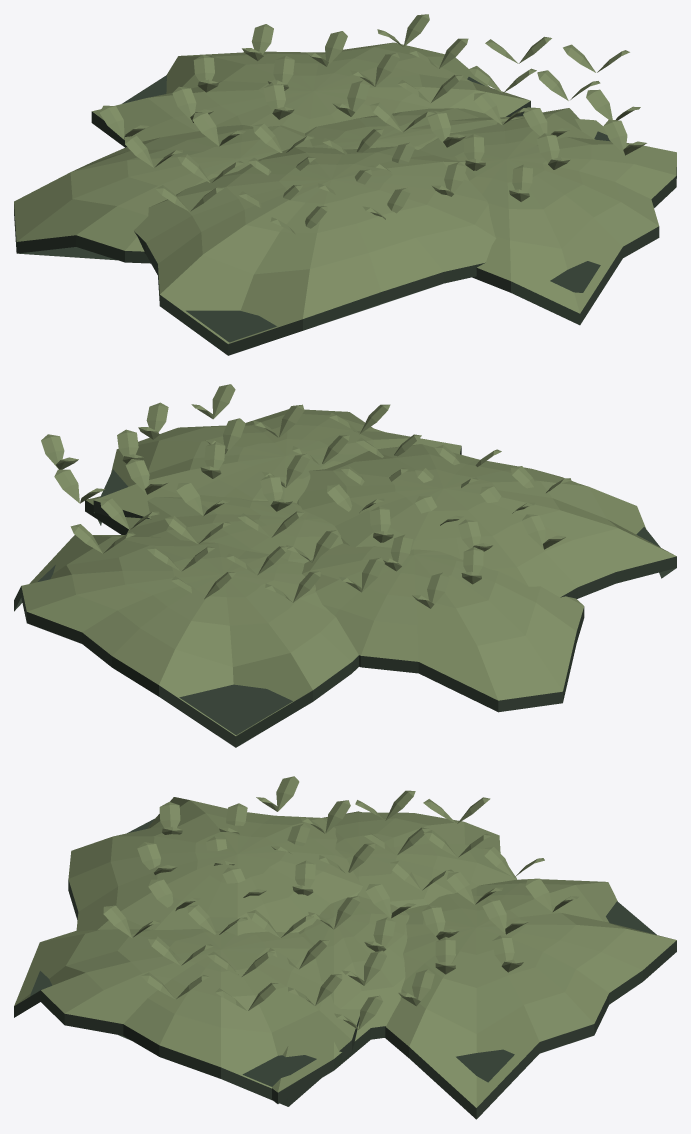
Rendered from CUSHION_MOSS.hi.glb.
3 renders of one model, top to bottom at view 1: azimuth 30°, elevation 25°; view 2: azimuth 150°, elevation 25°; view 3: azimuth 270°, elevation 25°, orthographic.
Visible parts, largest first — view 1: CUSHION_MOSS; view 2: CUSHION_MOSS; view 3: CUSHION_MOSS.
Boxes of the visible parts, box(x1,y1,x2,y2) form: CUSHION_MOSS: box(14, 14, 676, 355); CUSHION_MOSS: box(14, 384, 676, 747); CUSHION_MOSS: box(14, 776, 676, 1119).
Bounding box in the file's own units: 0.4584 × 0.0923 × 0.4641.
Materials: 1 (1 with a texture image).
